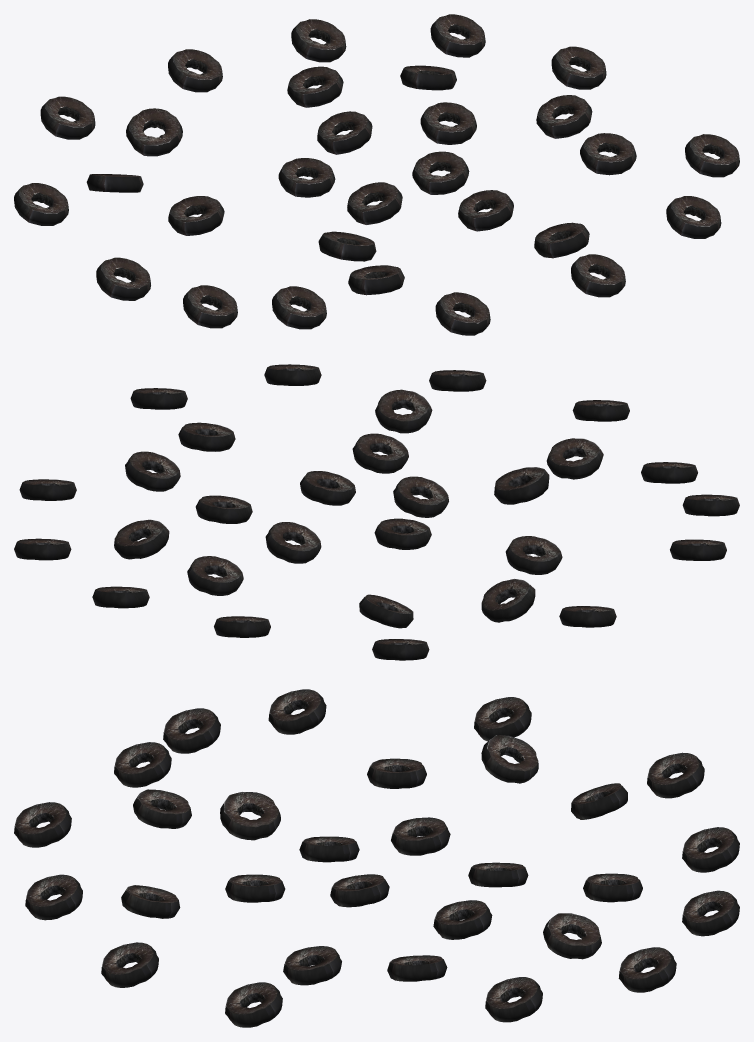
The model's file is olive_slice_topping.fbx.
3 views of the same model, one above another, from view 1: azimuth 30°, elevation 25°; view 2: azimuth 150°, elevation 25°; view 3: azimuth 270°, elevation 25° (orthographic). The views are drawn at different scales.
Parts seen in each view (by area): view 1: olive.019, olive.014, olive.007, olive.020, olive, olive.008, olive.023, olive.032, olive.031, olive.036, olive.024, olive.029 (+17 smaller); view 2: olive.021, olive.018, olive.011, olive.005, olive.022, olive.001, olive.010, olive.002, olive, olive.012, olive.017, olive.014 (+17 smaller); view 3: olive.017, olive.011, olive.012, olive.032, olive.030, olive.025, olive.031, olive.035, olive.036, olive.008, olive.023, olive.026 (+17 smaller).
Boxes of the visible parts, box(x1,y1,x2,y2) form: olive.019: box(126, 108, 182, 156); olive.014: box(412, 151, 469, 194); olive.007: box(420, 102, 476, 144); olive.020: box(580, 133, 636, 175); olive: box(536, 95, 592, 138); olive.008: box(435, 292, 490, 335); olive.023: box(168, 49, 222, 92); olive.032: box(40, 96, 95, 139); olive.031: box(272, 286, 326, 329); olive.036: box(183, 285, 237, 328); olive.024: box(571, 254, 625, 297); olive.029: box(430, 14, 485, 57); olive.021: box(375, 389, 432, 433); olive.018: box(546, 438, 603, 479); olive.011: box(481, 578, 535, 622); olive.005: box(265, 522, 321, 563); olive.022: box(393, 476, 448, 517); olive.001: box(352, 433, 408, 473); olive.010: box(187, 556, 243, 595); olive.002: box(505, 536, 562, 574); olive: box(125, 451, 180, 491); olive.012: box(114, 519, 169, 559); olive.017: box(494, 467, 549, 504); olive.014: box(300, 471, 355, 505); olive.017: box(220, 792, 280, 840); olive.011: box(481, 735, 538, 783); olive.012: box(543, 913, 601, 959); olive.032: box(647, 752, 704, 798); olive.030: box(682, 890, 739, 936); olive.025: box(101, 942, 158, 987); olive.031: box(114, 742, 171, 787); olive.035: box(268, 689, 326, 734); olive.036: box(163, 708, 220, 753); olive.008: box(14, 802, 71, 847); olive.023: box(682, 827, 739, 872); olive.026: box(225, 982, 282, 1027).
Size of the model in its own units: 50.6 by 2.42 by 48.79.
Materials: 29 (29 with a texture image).
